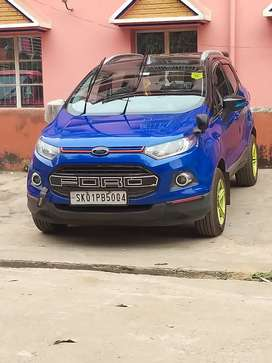SK01PB5004: (69, 191, 127, 205)
